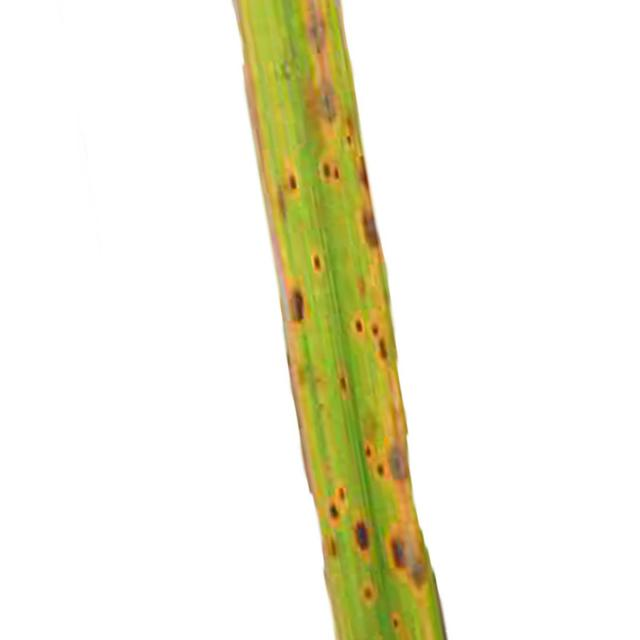Brown_Spot: (305, 82, 355, 125), (304, 0, 335, 53), (319, 495, 352, 532), (282, 279, 310, 321), (408, 545, 431, 595), (361, 209, 380, 249), (390, 448, 409, 479), (349, 310, 370, 337), (346, 119, 362, 154), (320, 158, 341, 184), (356, 156, 370, 195), (376, 336, 396, 362), (284, 162, 299, 191), (391, 539, 406, 568), (324, 534, 341, 557), (361, 581, 378, 604), (310, 248, 325, 274), (356, 522, 369, 550), (332, 486, 350, 505), (369, 320, 385, 340), (339, 374, 351, 400), (389, 611, 402, 631), (364, 440, 376, 461), (376, 462, 390, 480)
